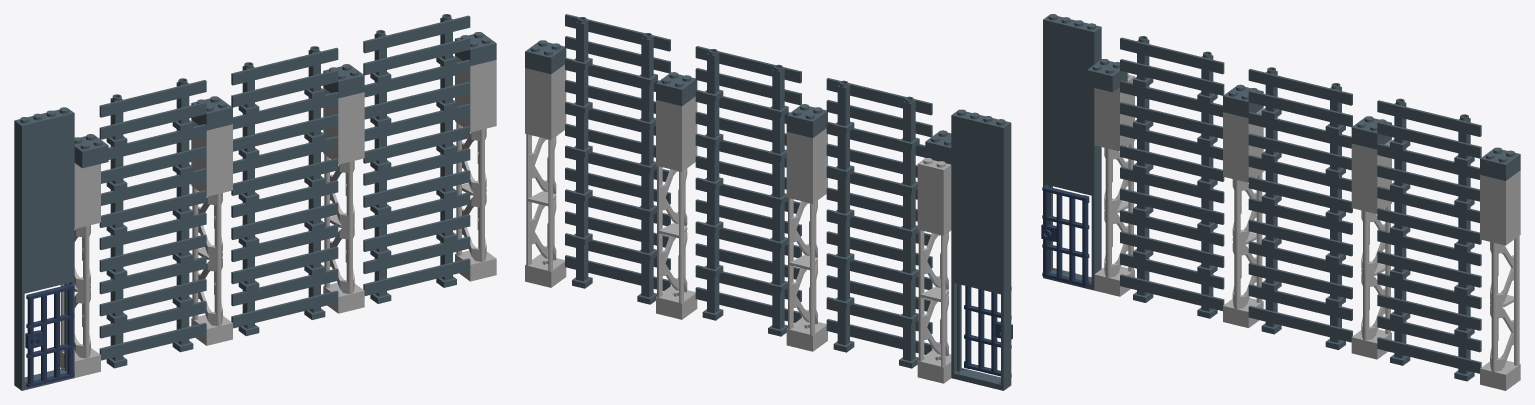
Rendered from Fances.fbx.
The picture shows the model from 3 angles, left to right: view 1: azimuth 30°, elevation 25°; view 2: azimuth 150°, elevation 25°; view 3: azimuth 330°, elevation 25°; orthographic projection. The views are drawn at different scales.
Parts seen in each view (by area): view 1: fence:Piece000; view 2: fence:Piece000; view 3: fence:Piece000.
Boxes of the visible parts, x1,y1,x2,y2 form: fence:Piece000: [14, 14, 496, 390]; fence:Piece000: [525, 14, 1012, 390]; fence:Piece000: [1041, 14, 1520, 390].
Size of the model in its own units: 720 by 388 by 60.
